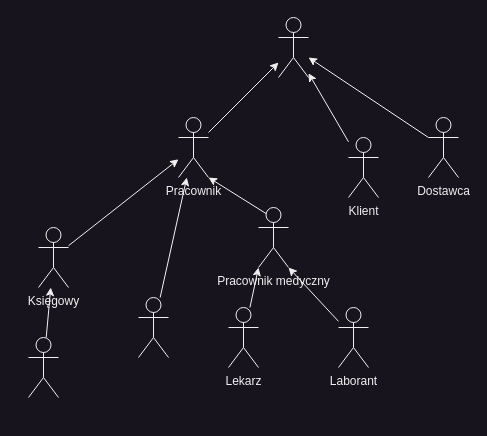
Image size: 487x436. Some labels were removed from this diagram. The shapes that lost their labels are listed below. From the top down, each one's box as (x1, y1, x2, y2) in pixels, then its label:
(278, 16, 308, 78): Osoba
(138, 296, 168, 358): Recepcjonista
(28, 336, 58, 398): Menadżer
